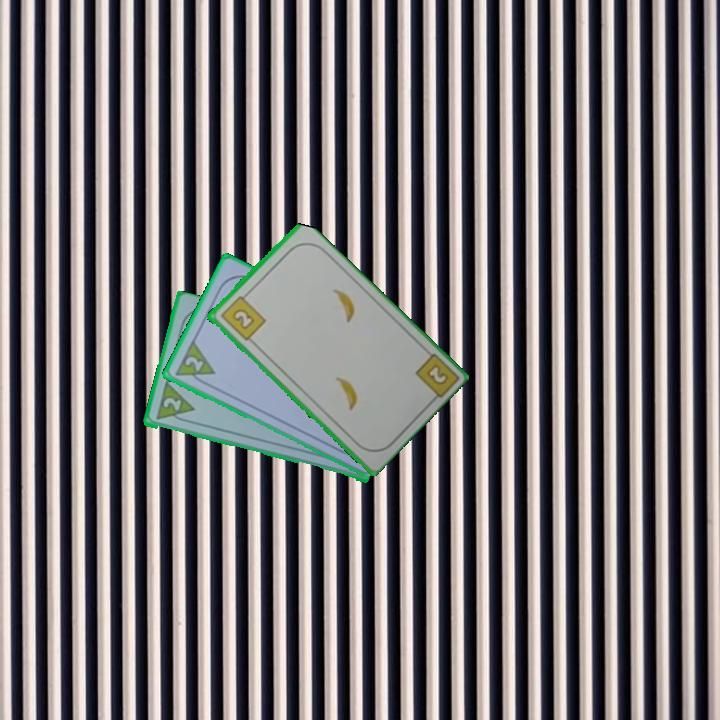2b: (217, 289, 268, 343), (422, 360, 451, 388)
2p: (171, 337, 217, 389), (159, 394, 184, 414)
